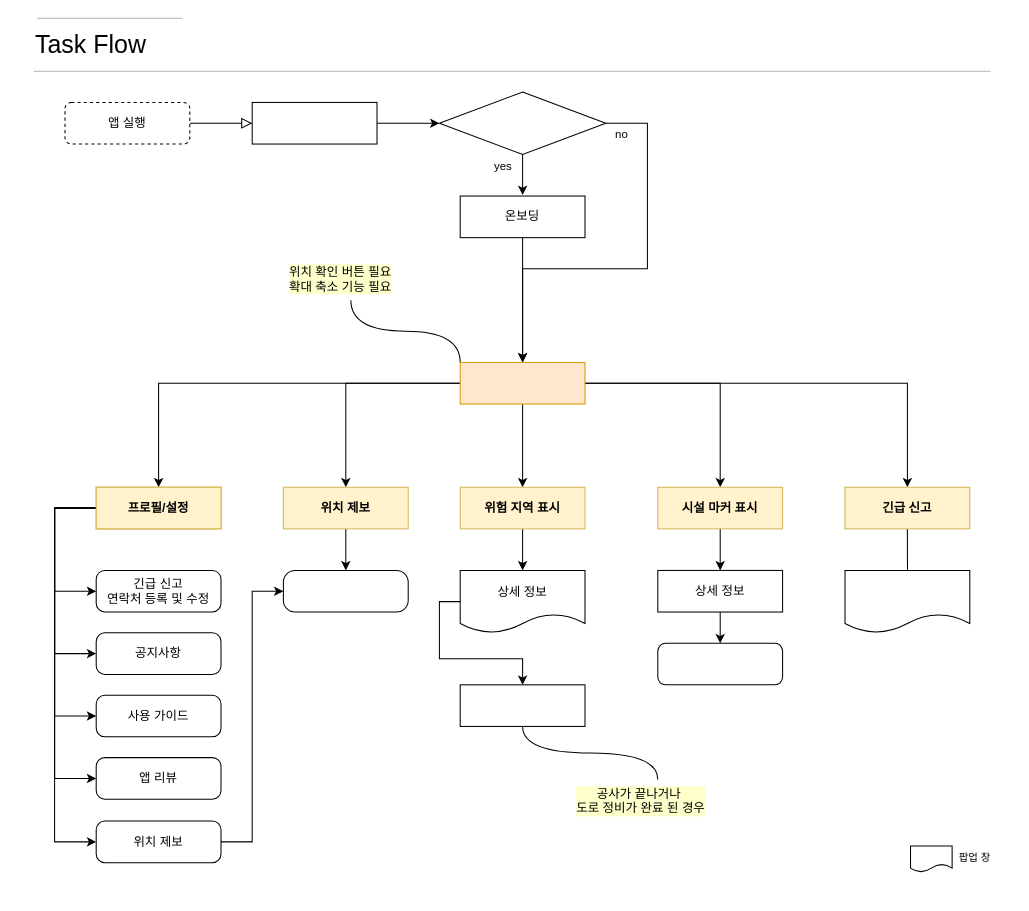
Image size: 1029x911. Some labels were removed from this diagram. Here are the shapes that lost their labels. From the top down, the centre of each, then its label:
At pixel 314 122: "스플래쉬".
At pixel 522 122: "최초 실행인가?".
At pixel 522 382: "지도 페이지".
At pixel 345 590: "사진 촬영 및 전송".
At pixel 907 601: "신고 여부 재확인".
At pixel 720 663: "전화 연결 링크".
At pixel 522 705: "수정 요청".
